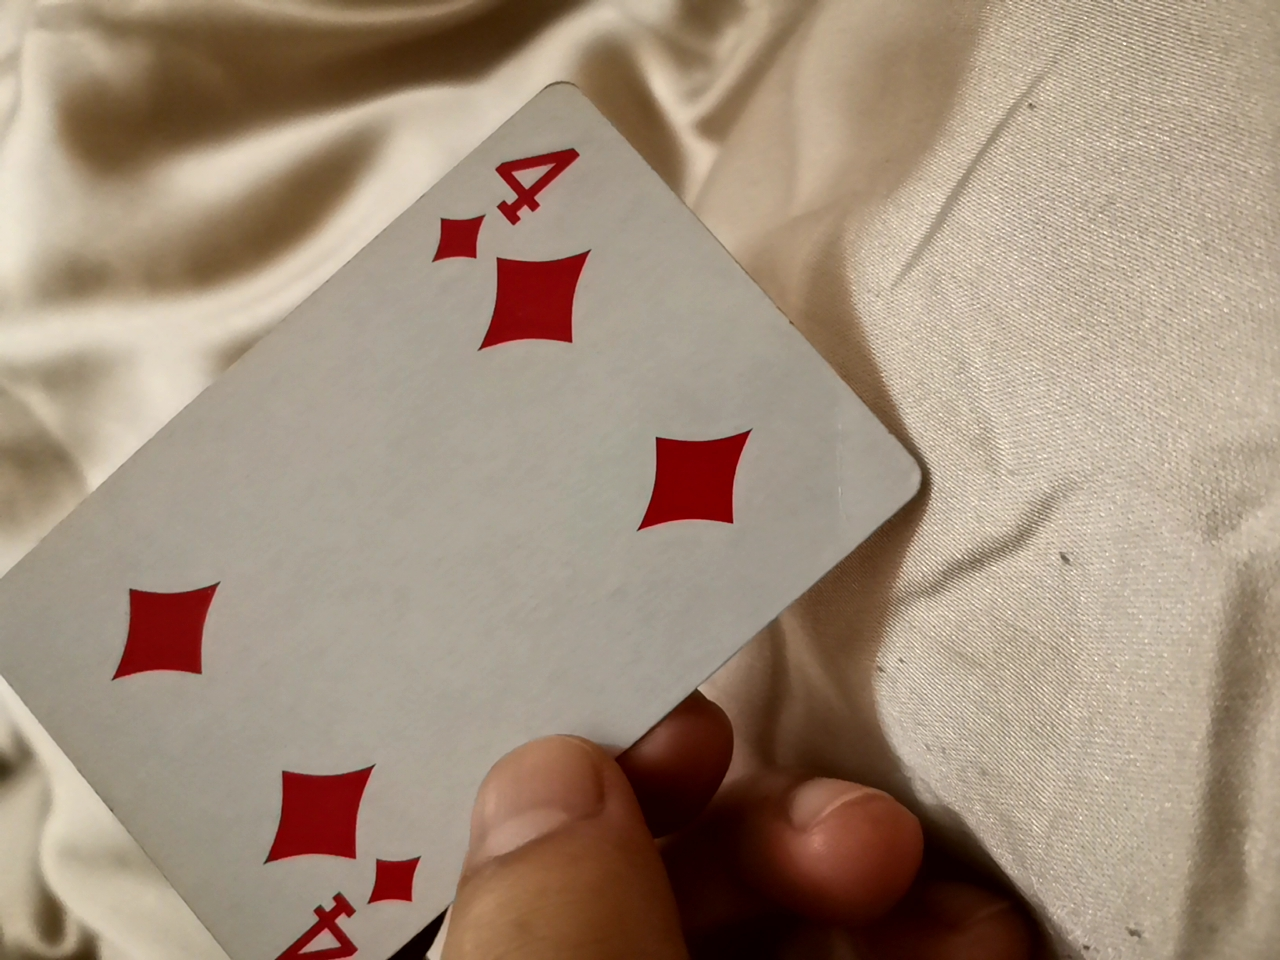fk 4: (6, 49, 912, 952)
